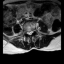CCS_severe_stenosis: (29, 28, 31, 37)
LFS_normal: (32, 27, 34, 33)
LLS_normal: (31, 28, 32, 35)
RFS_normal: (25, 28, 27, 35)
RLS_normal: (27, 28, 29, 36)
